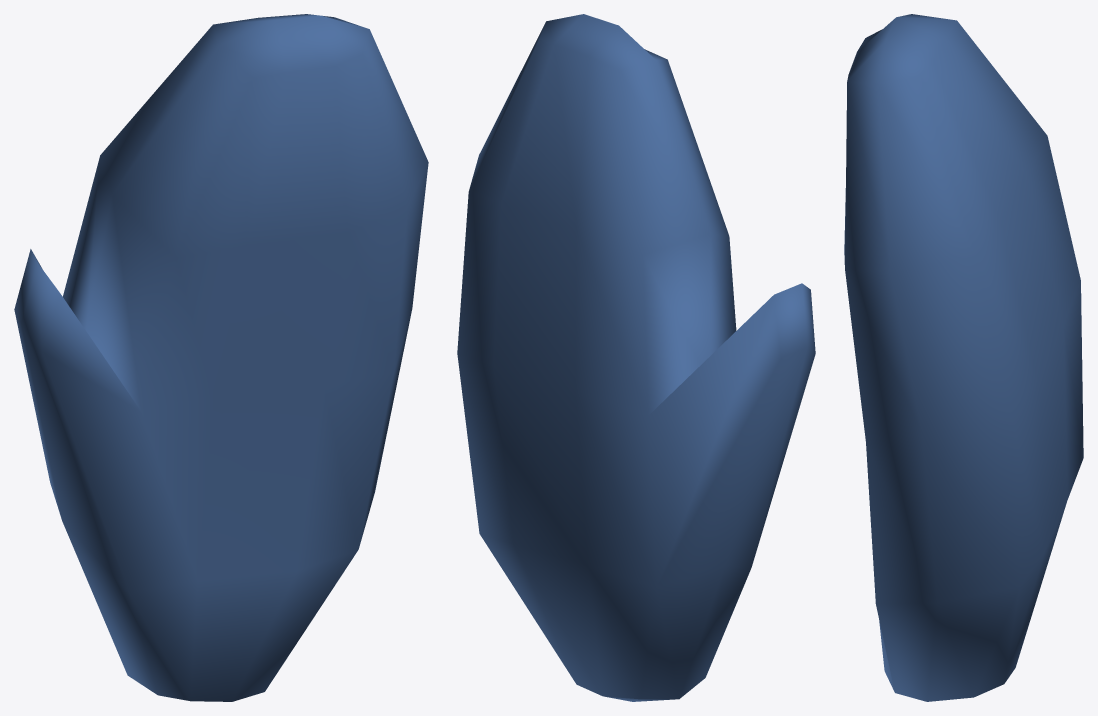
Rendered from hand l.fbx.
The picture shows the model from 3 angles, left to right: view 1: azimuth 30°, elevation 25°; view 2: azimuth 150°, elevation 25°; view 3: azimuth 270°, elevation 25°; orthographic projection. The views are drawn at different scales.
Visible parts, largest first — view 1: hand l; view 2: hand l; view 3: hand l.
Boxes of the visible parts, <box> form: hand l: <box>14,14,428,701</box>; hand l: <box>457,14,815,701</box>; hand l: <box>844,14,1083,701</box>.
Size of the model in its own units: 3.82 by 7.09 by 12.13.
